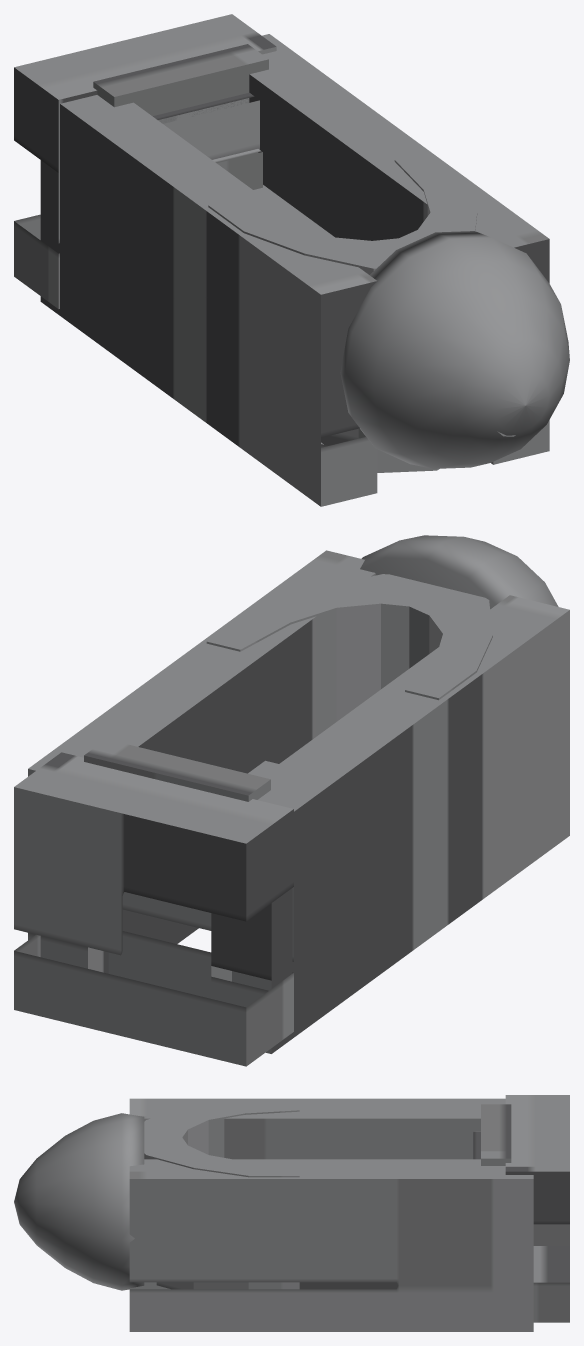
3 views of the same model, one above another, from view 1: azimuth 30°, elevation 25°; view 2: azimuth 150°, elevation 25°; view 3: azimuth 270°, elevation 25° (orthographic). The views are drawn at different scales.
Size of the model in its own units: 1.02 by 1.02 by 2.94.
